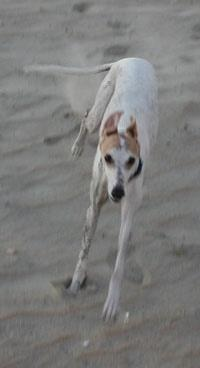dog: (23, 56, 159, 328)
